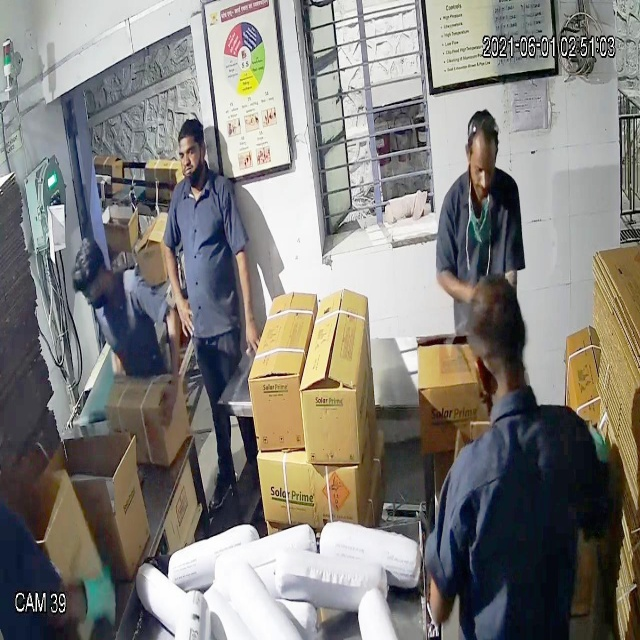Sin_gafas: (463, 147, 499, 187), (175, 142, 207, 171)
